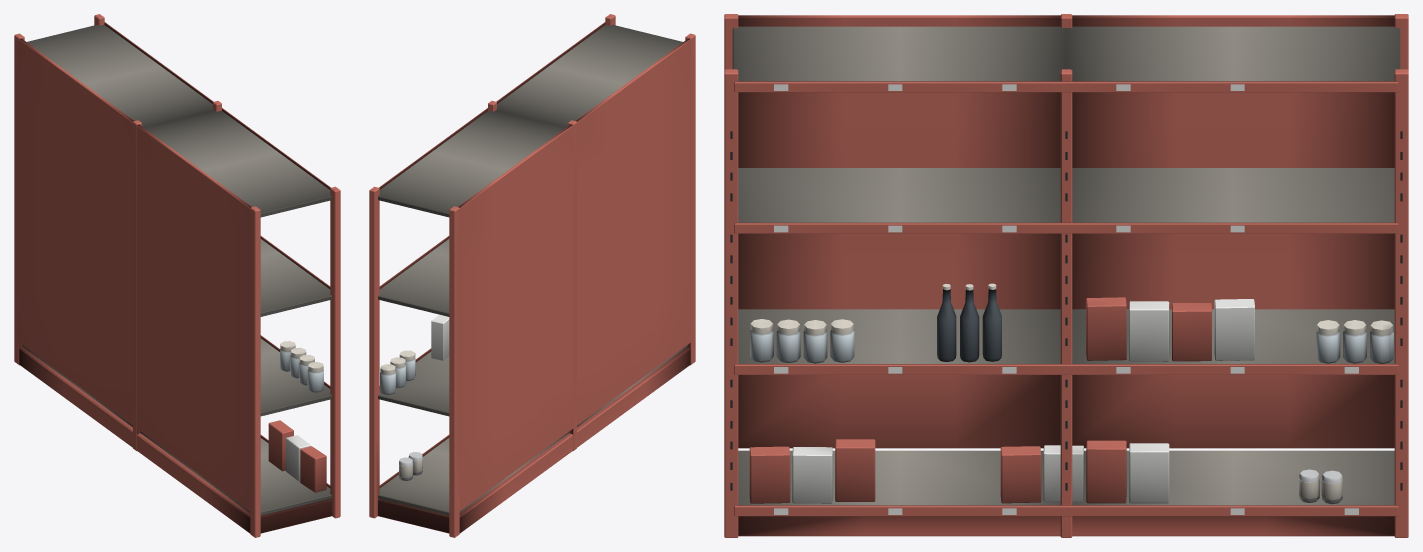
Rendered from shelf_shop.glb.
3 renders of one model, left to right at view 1: azimuth 30°, elevation 25°; view 2: azimuth 150°, elevation 25°; view 3: azimuth 270°, elevation 25°, orthographic. The views are drawn at different scales.
Parts seen in each view (by area): view 1: PART; view 2: PART; view 3: PART.
Boxes of the visible parts, x1=… form: PART: x1=14, y1=14, x2=340, y2=537; PART: x1=369, y1=14, x2=695, y2=537; PART: x1=724, y1=14, x2=1408, y2=537.
Size of the model in its own units: 0.504 by 1.8 by 2.4.
